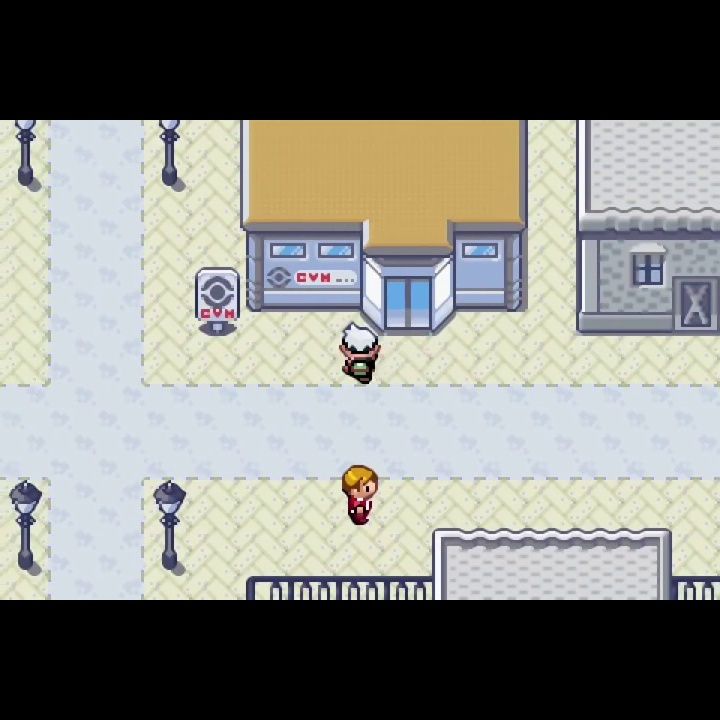gym: (239, 121, 530, 337)
house: (573, 120, 720, 338), (430, 527, 673, 600)
npc: (336, 322, 384, 387), (338, 461, 380, 527)
